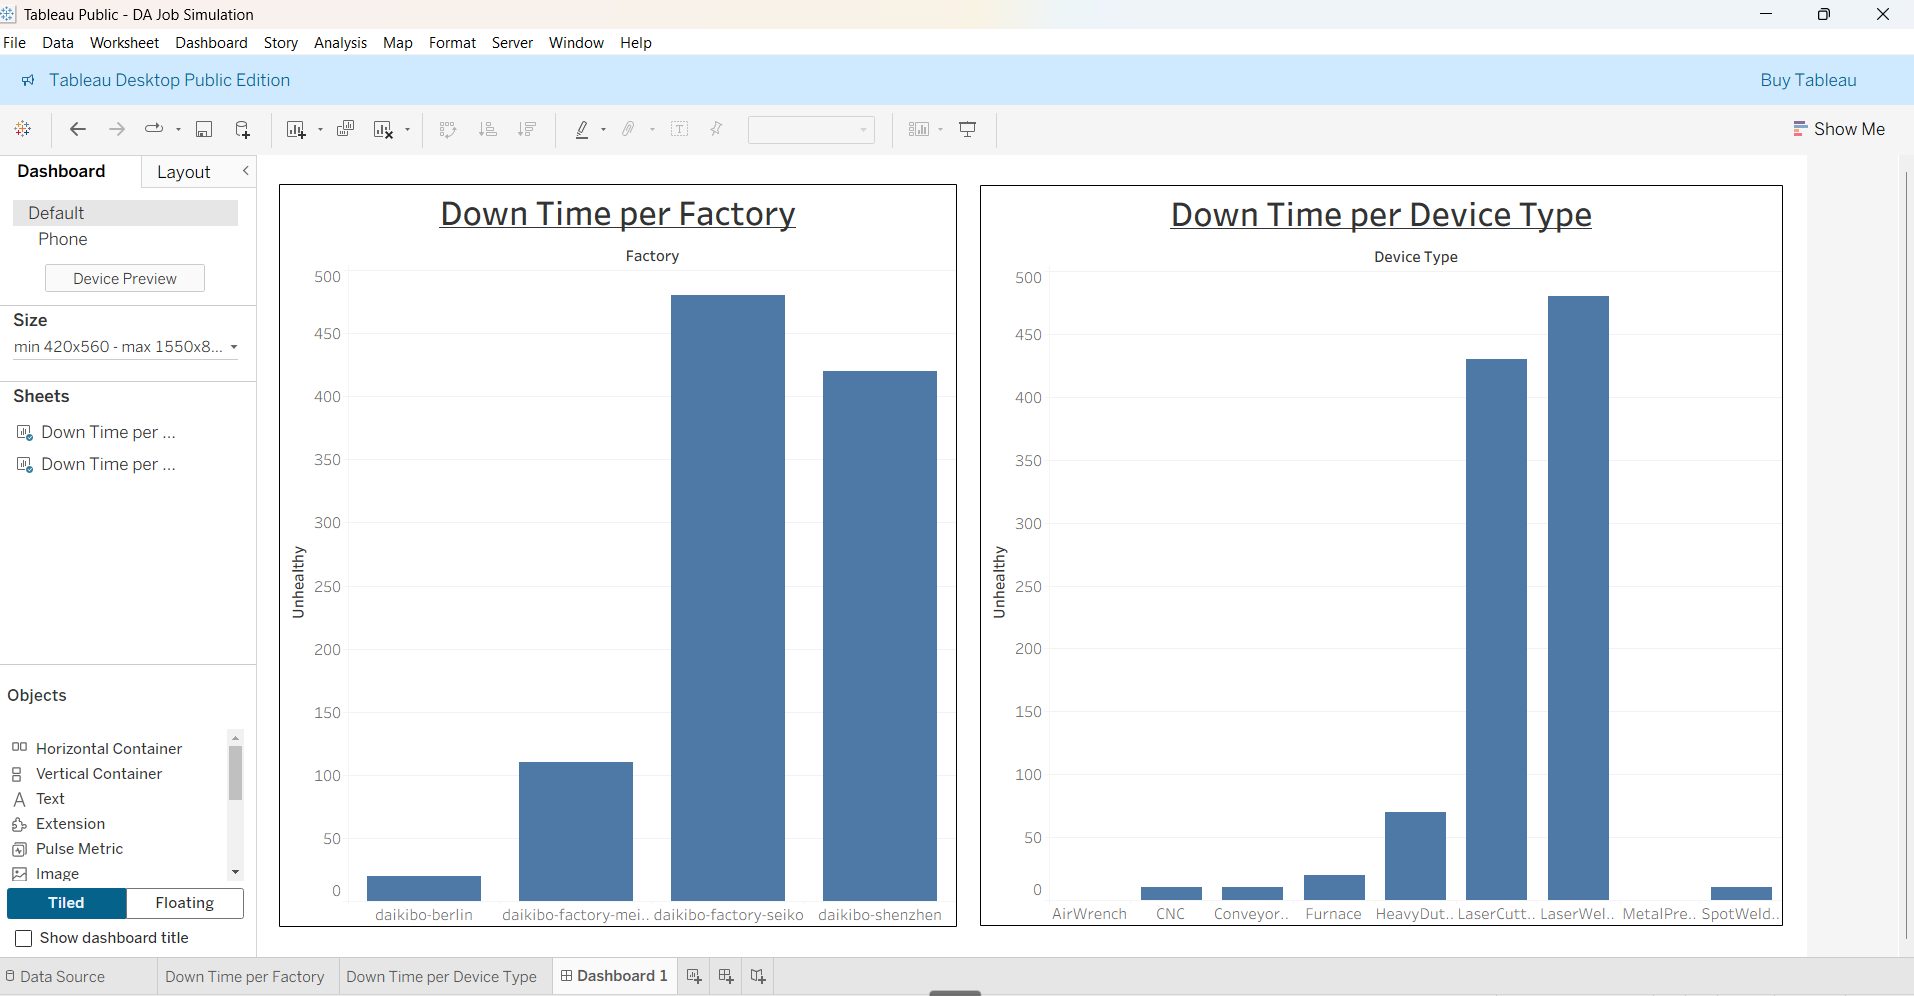

The page's visual inventory and layout, read from the dashboard file:
{"tool":"tableau","page":{"name":"Dashboard 1","canvas":[1000,1000],"units":"permille","ordinal":0},"visuals":[{"type":"worksheet","title":"Down Time per Factory","mark":"Automatic","rows":["Calculation_0272181720784896"],"cols":["factory"],"box":[14.2,36.2,437.4,926.4]},{"type":"worksheet","title":"Down Time per Device Type","mark":"Automatic","rows":["Calculation_0272181720784896"],"cols":["deviceType"],"box":[466.4,37.4,518.1,923.9]}]}

Visuals, with their boxes on the dashboard's canvas, which has no fixed pixel size, in thousandths of its width and height (x1, y1, x2, y2). These are canvas units, not pixel positions in the 1914x996 screenshot, which may show the page scaled, cropped or inside an application window:
"Down Time per Factory" worksheet: BBox(14, 36, 452, 963)
"Down Time per Device Type" worksheet: BBox(466, 37, 984, 961)
